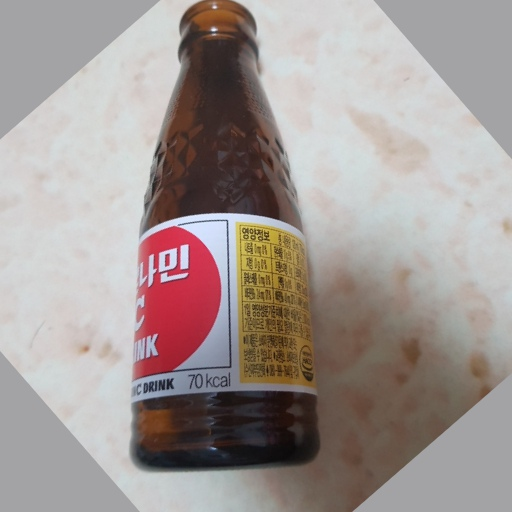Glass_3: (125, 1, 322, 470)
